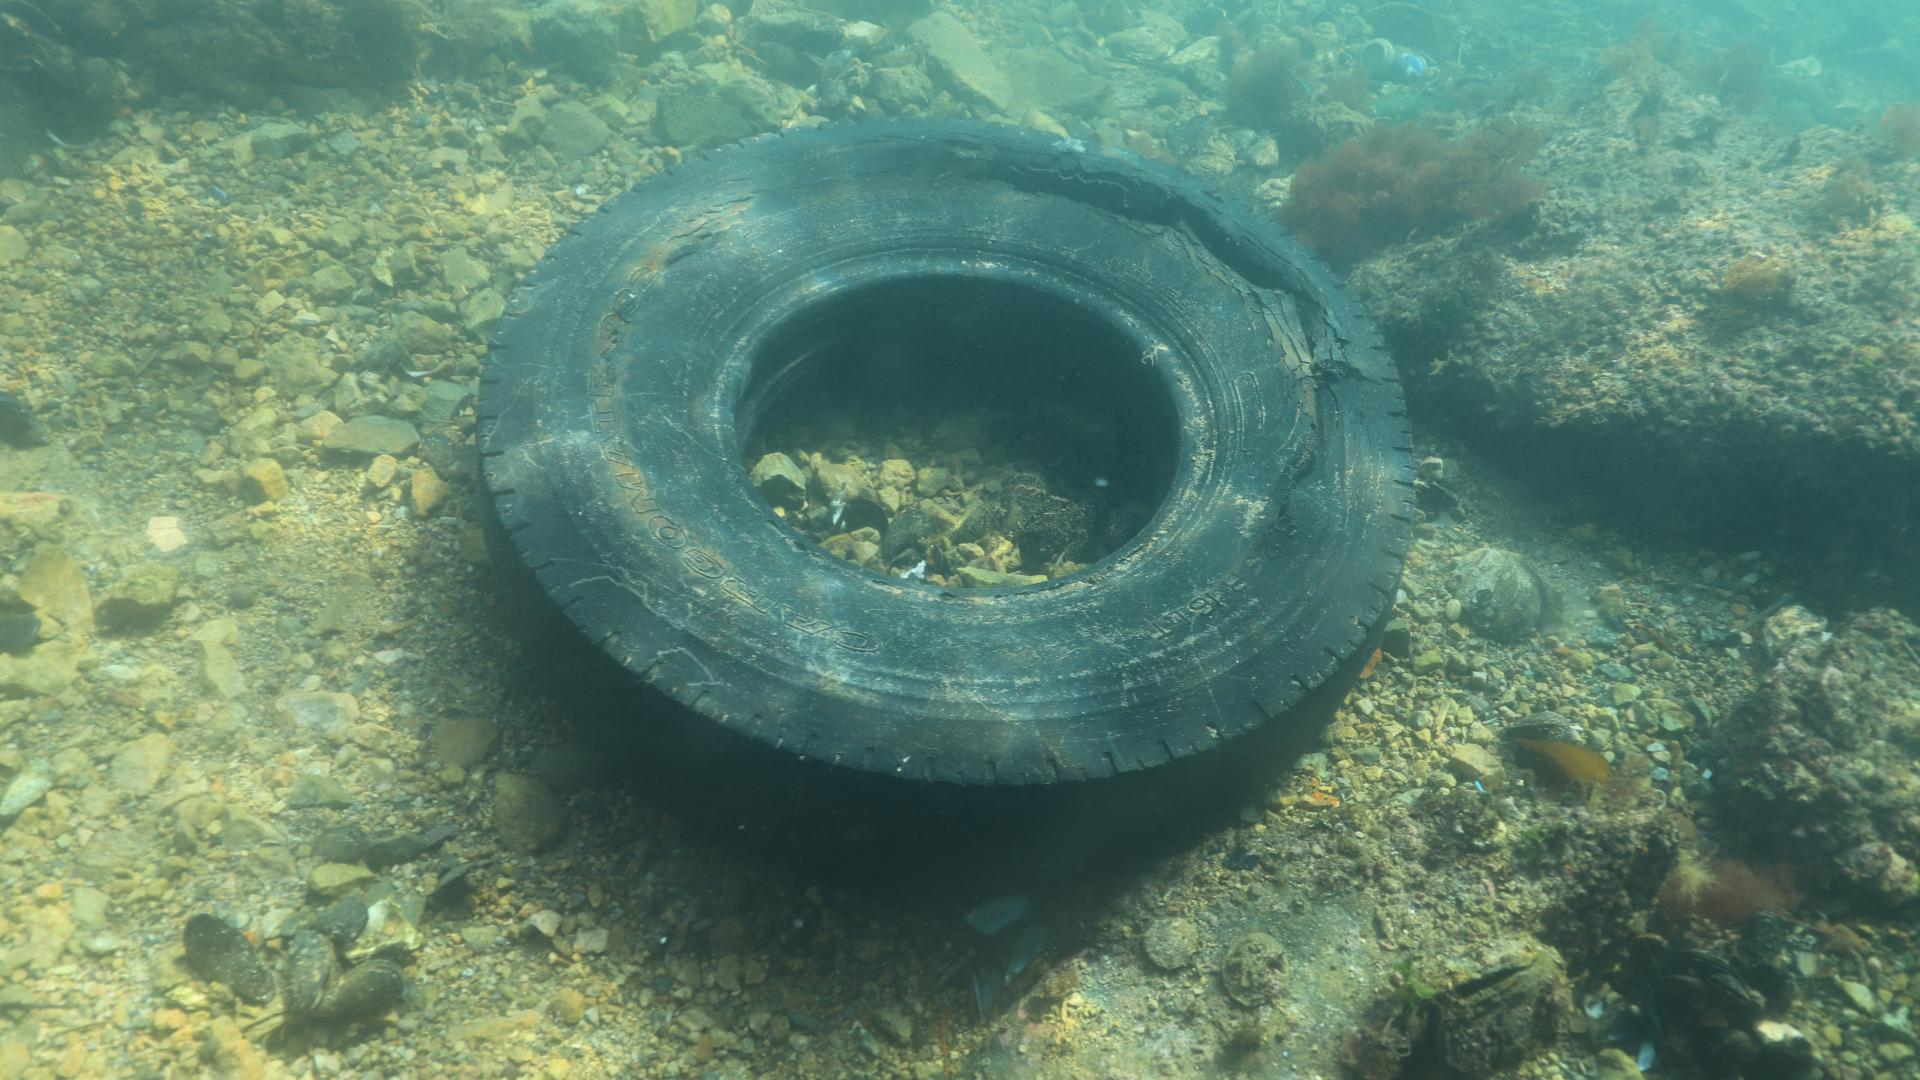tire: (477, 111, 1418, 886)
